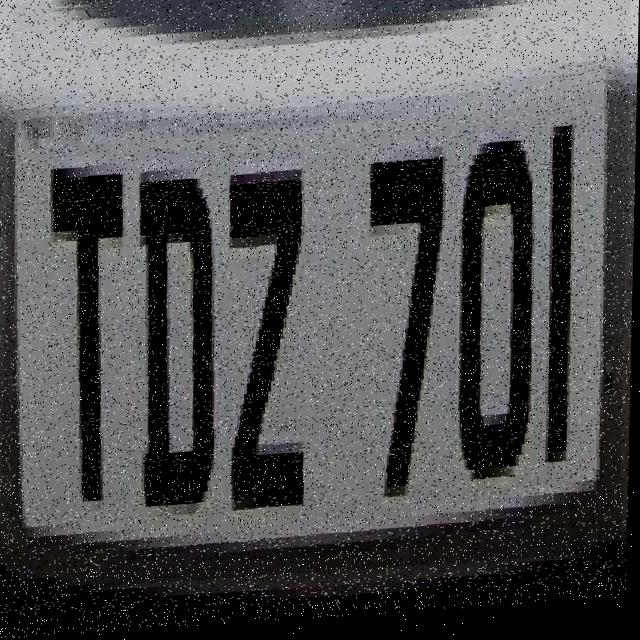LicensePlate: (2, 0, 632, 594)
